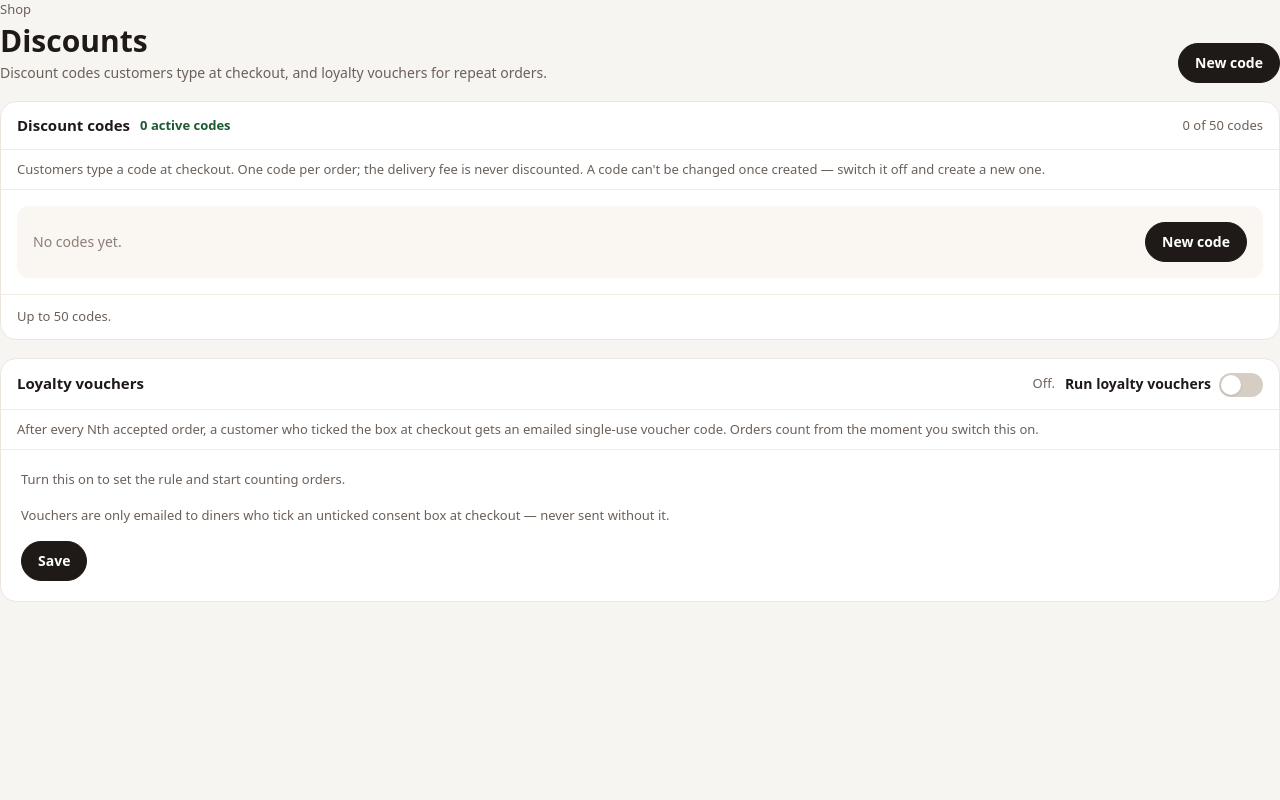
Test: PromotionsPage › keeps the plain footer under the limit, and the empty state with its own New code button
Check: the text "Up to 50 codes." is shown, box [1,294,1279,338]
Check: the text "No codes yet." is shown, box [33,232,122,252]
Click the button "New code" in the row of "No codes yet.".
click(1196, 242)  # box [1145,222,1247,262]
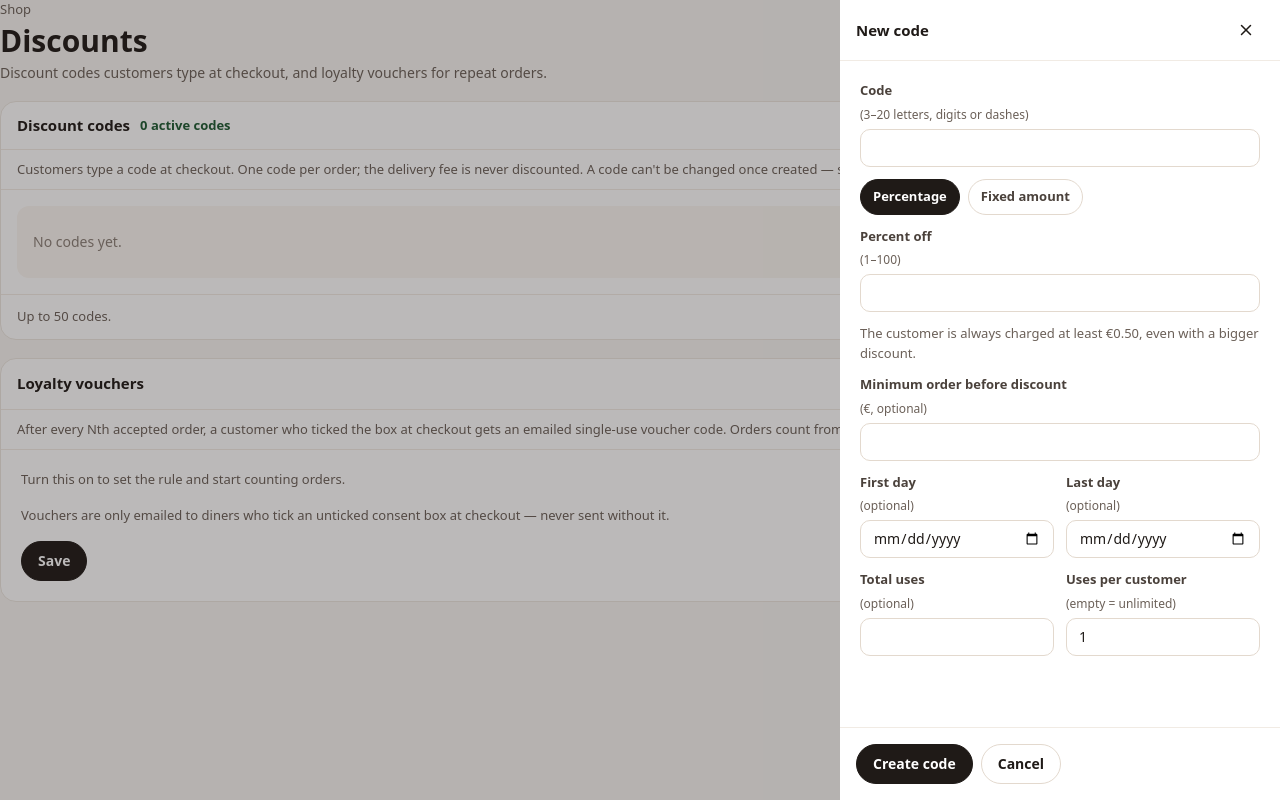
Check: the dialog is shown, box [840,0,1279,799]
